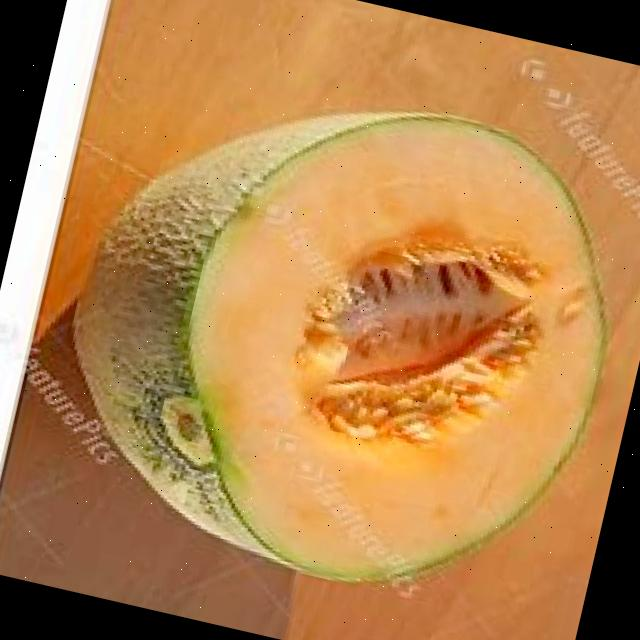Hami Melon: (30, 46, 640, 626)
